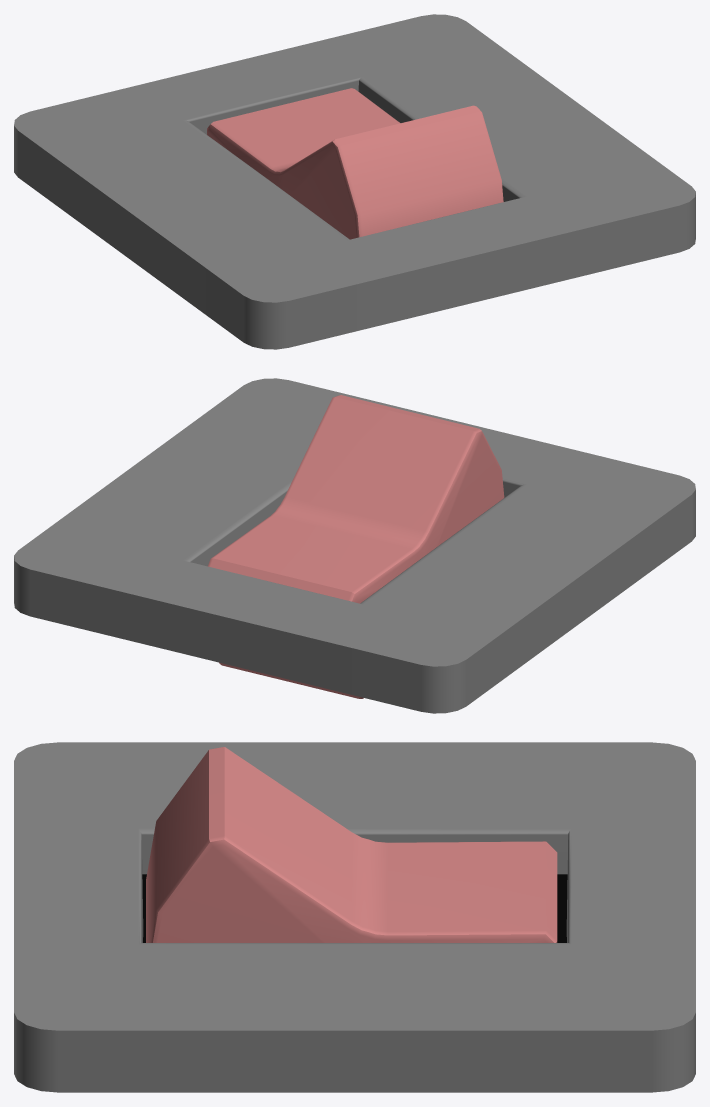
Rendered from FlipSwitch.fbx.
3 views of the same model, one above another, from view 1: azimuth 30°, elevation 25°; view 2: azimuth 150°, elevation 25°; view 3: azimuth 270°, elevation 25° (orthographic). The views are drawn at different scales.
Visible parts, largest first — view 1: FlipPlate, FlipSwitch; view 2: FlipPlate, FlipSwitch; view 3: FlipPlate, FlipSwitch.
Boxes of the visible parts, x1,y1,x2,y2 form: FlipPlate: (14, 14, 695, 349); FlipSwitch: (207, 88, 503, 239); FlipPlate: (14, 378, 695, 713); FlipSwitch: (208, 395, 504, 698); FlipPlate: (14, 742, 695, 1092); FlipSwitch: (146, 747, 557, 942).
Size of the model in its own units: 12.76 by 5.04 by 12.76.
